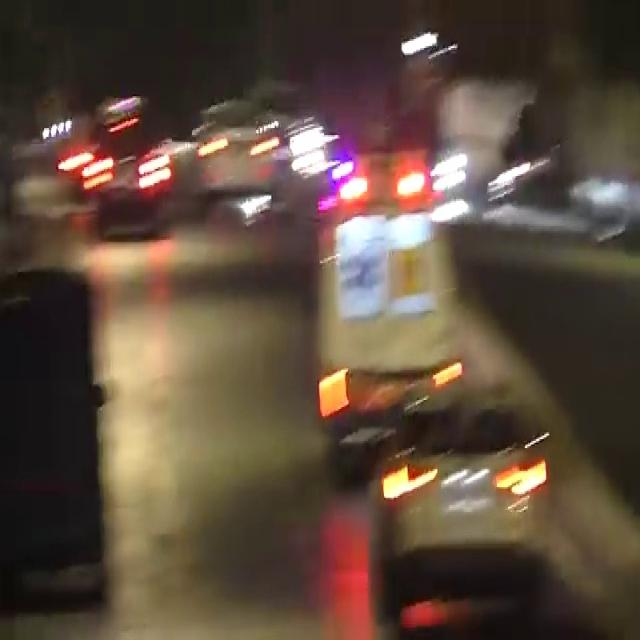ambulance: (312, 145, 452, 428)
